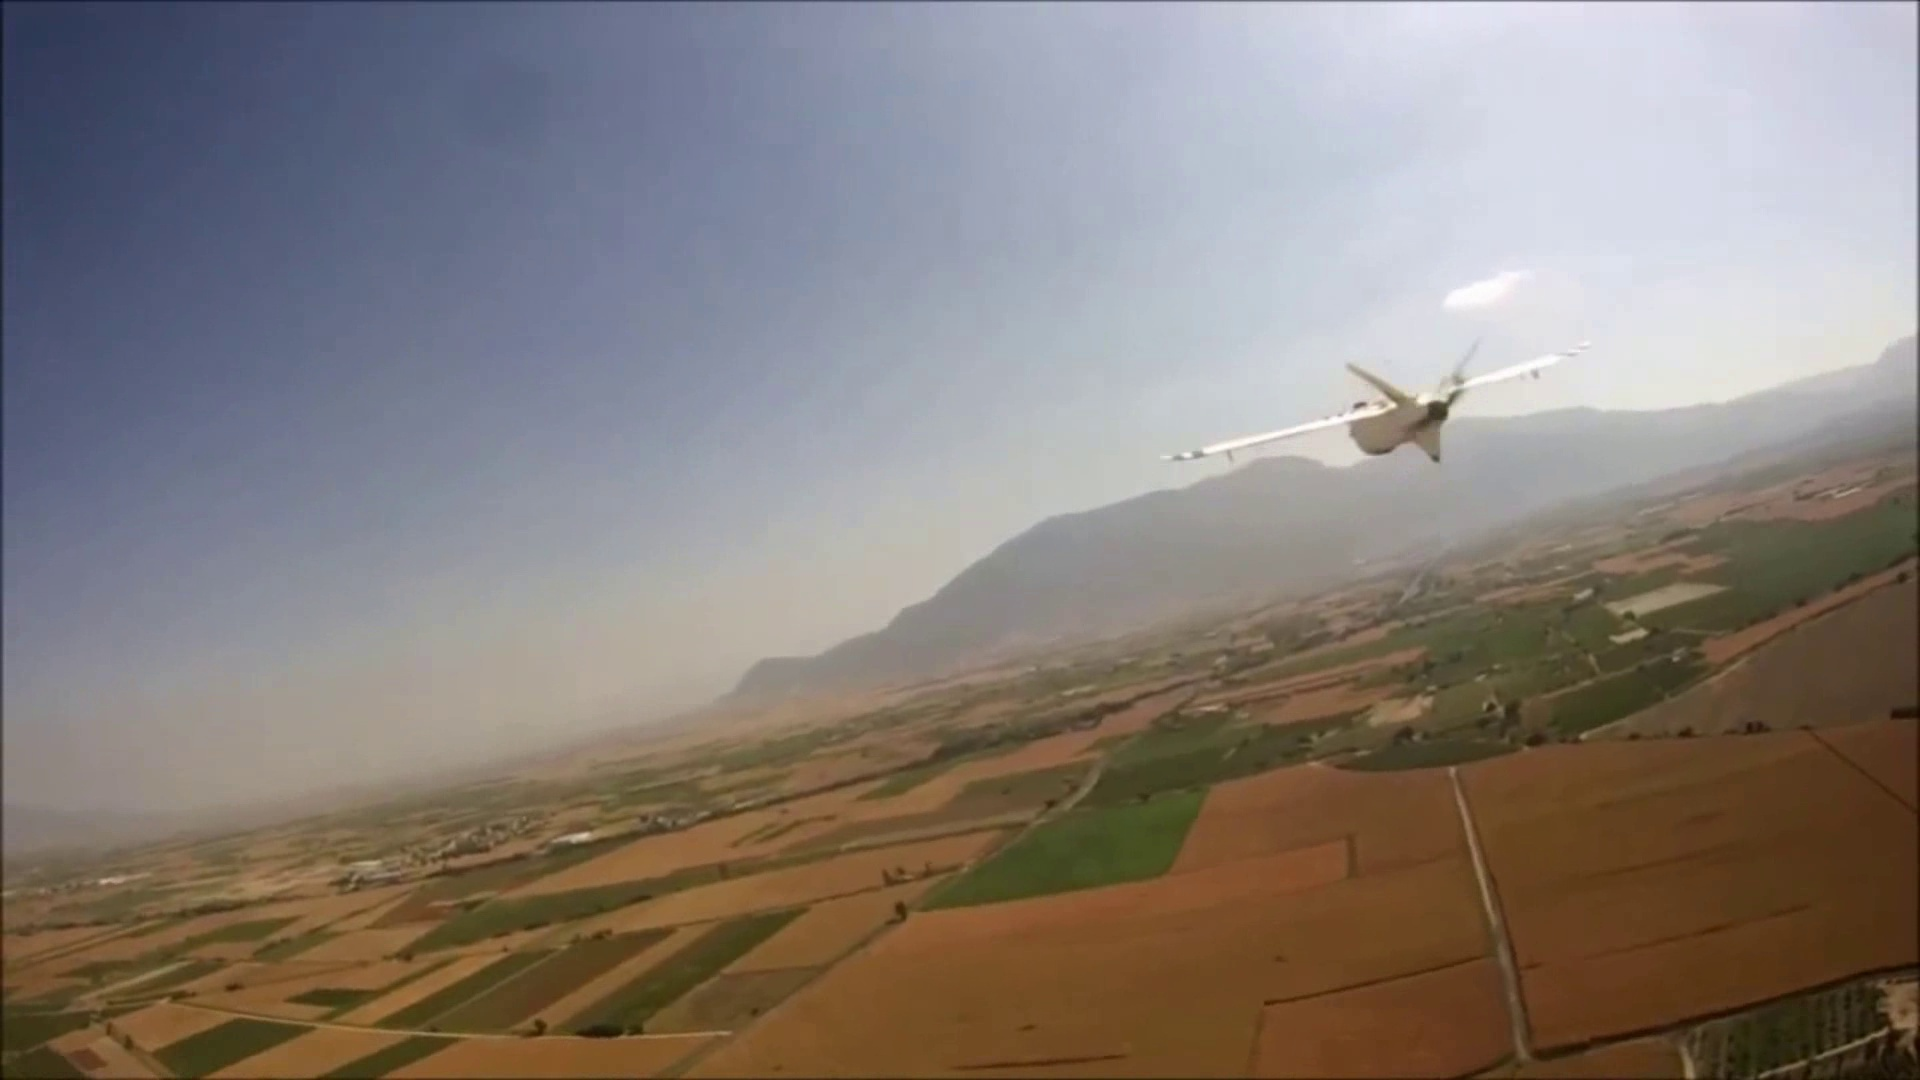airplane: (1168, 343, 1584, 471), (1342, 345, 1585, 465)
